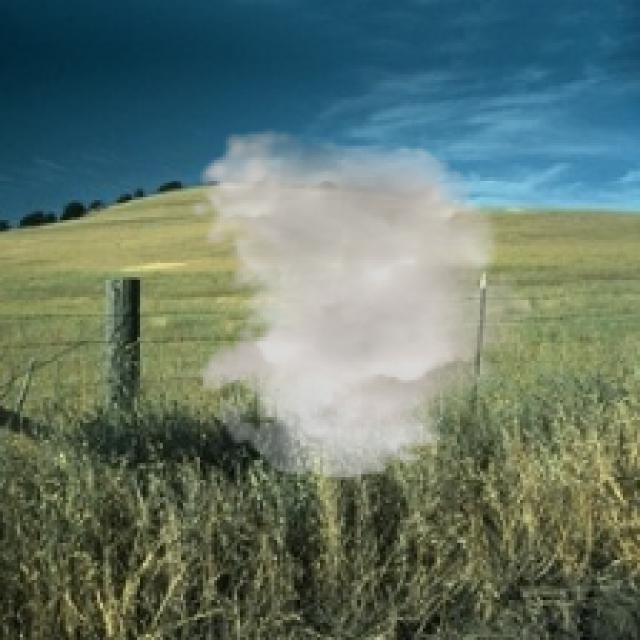Smoke: (188, 128, 546, 480)
